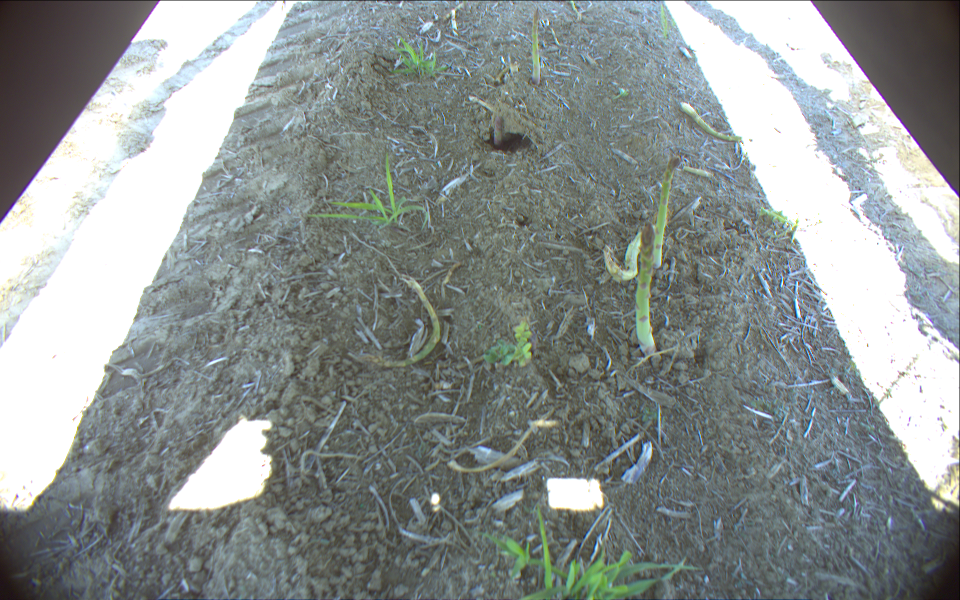aspa: (646, 152, 681, 273), (633, 220, 659, 358), (527, 4, 543, 87)
